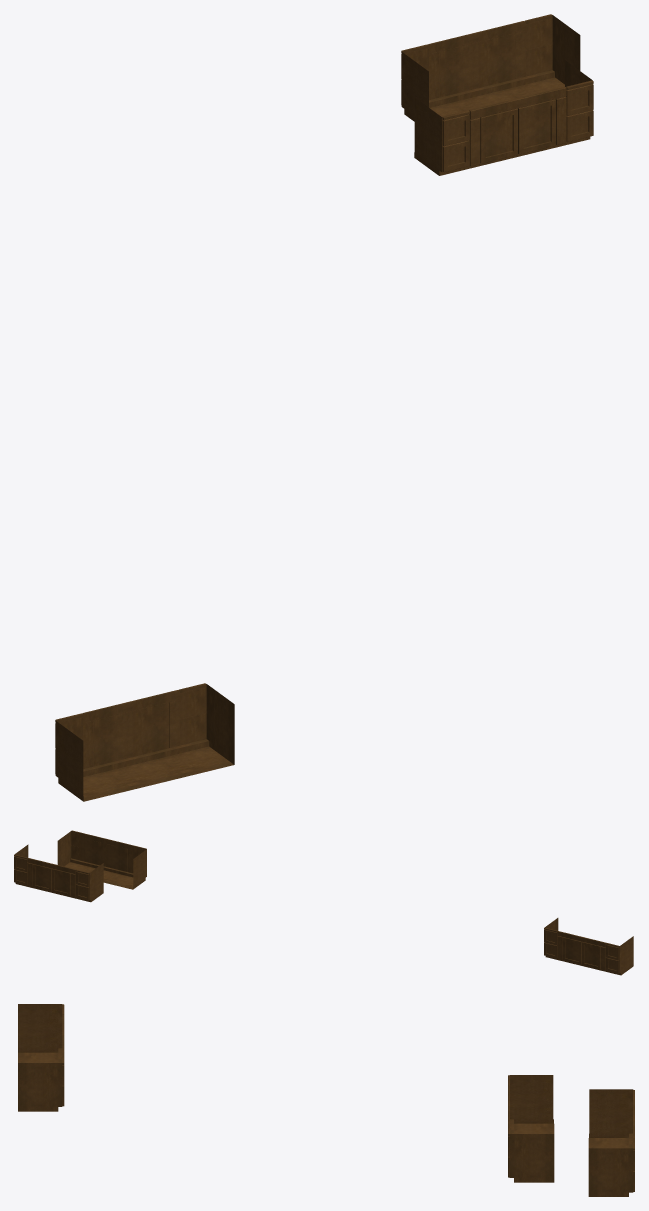
The model's file is Cabinets_Truffle._.glb.
3 renders of one model, top to bottom at view 1: azimuth 30°, elevation 25°; view 2: azimuth 150°, elevation 25°; view 3: azimuth 270°, elevation 25°, orthographic. The views are drawn at different scales.
Parts seen in each view (by area): view 1: Bathroom_Cabinet_Truffle_2345; view 2: Bathroom_Cabinet_Truffle_2345; view 3: Bathroom_Cabinet_Truffle_2345.
Part boxes in pixels (x1,y1,x2,y2): Bathroom_Cabinet_Truffle_2345: (55,14,593,801); Bathroom_Cabinet_Truffle_2345: (14,830,633,975); Bathroom_Cabinet_Truffle_2345: (18,1004,634,1196).
Bounding box in the file's own units: 16.16 × 5.37 × 12.73.
1 material, 1 textured.
